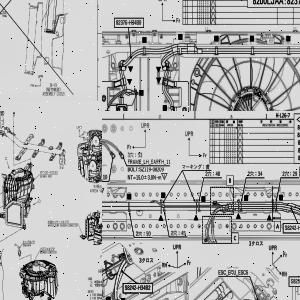PartNumber: (124, 284, 151, 291), (140, 166, 164, 173), (116, 19, 142, 25), (284, 224, 300, 231), (290, 277, 300, 285), (40, 170, 58, 174), (59, 299, 78, 300)
